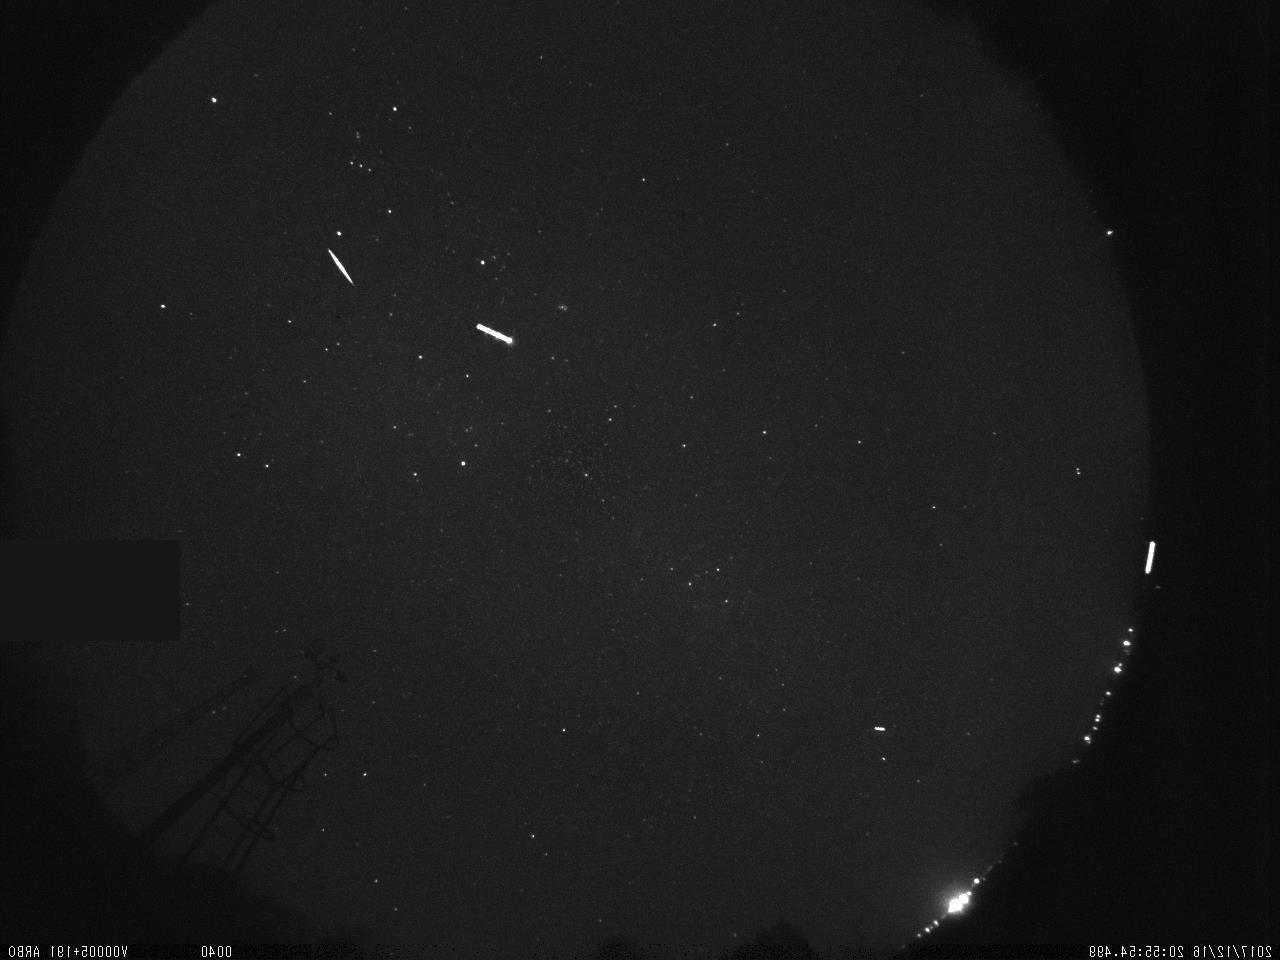meteor: (315, 240, 365, 296)
satelite: (465, 313, 522, 356), (867, 723, 889, 735)
